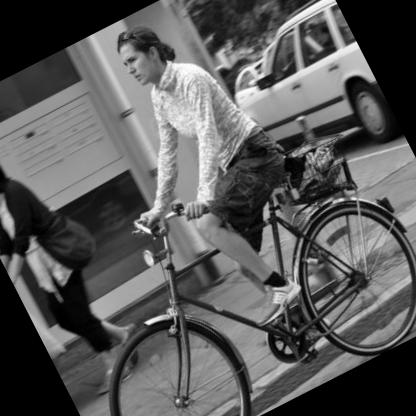moto: (18, 101, 416, 416)
